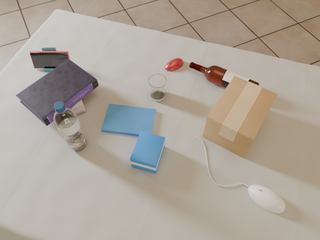book: (16, 59, 98, 126), (102, 104, 156, 136)
bottle: (189, 62, 259, 89), (54, 102, 87, 150)
box: (203, 76, 277, 158), (130, 131, 165, 173)
cup: (149, 74, 166, 101)
mouse: (248, 185, 285, 213), (165, 58, 183, 71)
phone: (30, 51, 70, 69)
